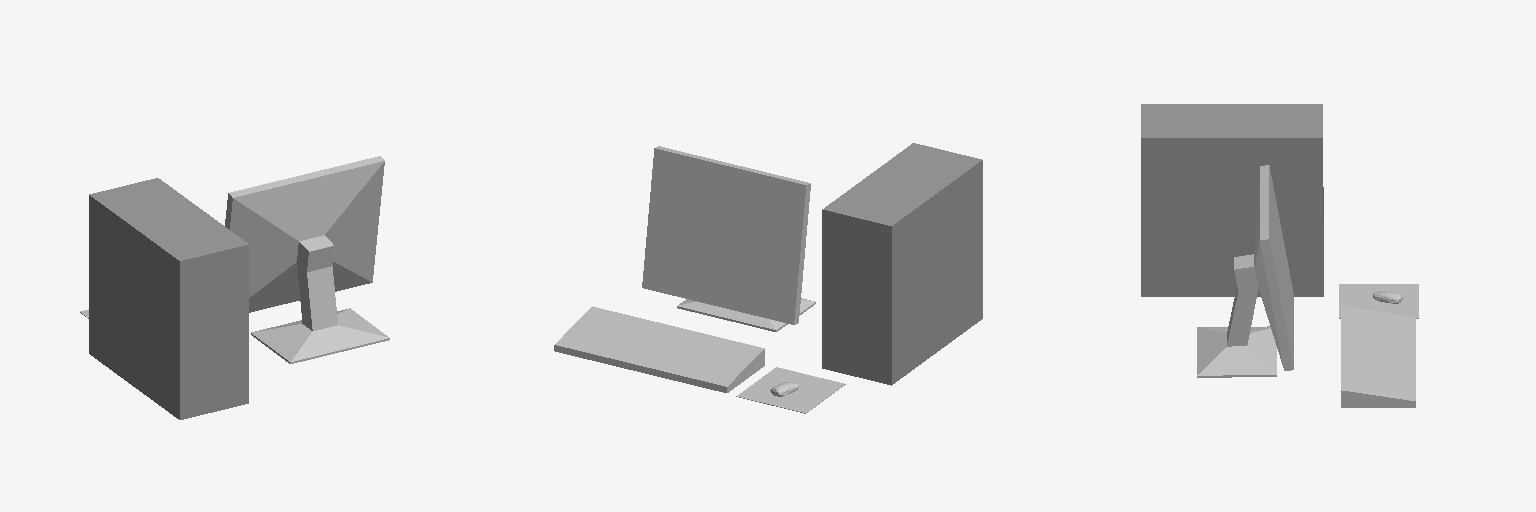
The model's file is bsod_pc.obj.
3 views of the same model, side by side, from view 1: azimuth 30°, elevation 25°; view 2: azimuth 150°, elevation 25°; view 3: azimuth 270°, elevation 25° (orthographic).
Parts seen in each view (by area): view 1: Mesh, Cube; view 2: Mesh, Cube, Cube.001; view 3: Mesh, Cube, Cube.001.
Boxes of the visible parts, box(x1,y1,x2,y2) form: Mesh: box(89, 178, 248, 419); Cube: box(225, 156, 389, 363); Mesh: box(822, 143, 982, 385); Cube: box(642, 146, 815, 331); Cube.001: box(554, 306, 845, 413); Mesh: box(1141, 104, 1323, 296); Cube: box(1197, 165, 1293, 377); Cube.001: box(1339, 284, 1418, 407).
Bounding box in the file's own units: 8.38 × 4.46 × 6.92.